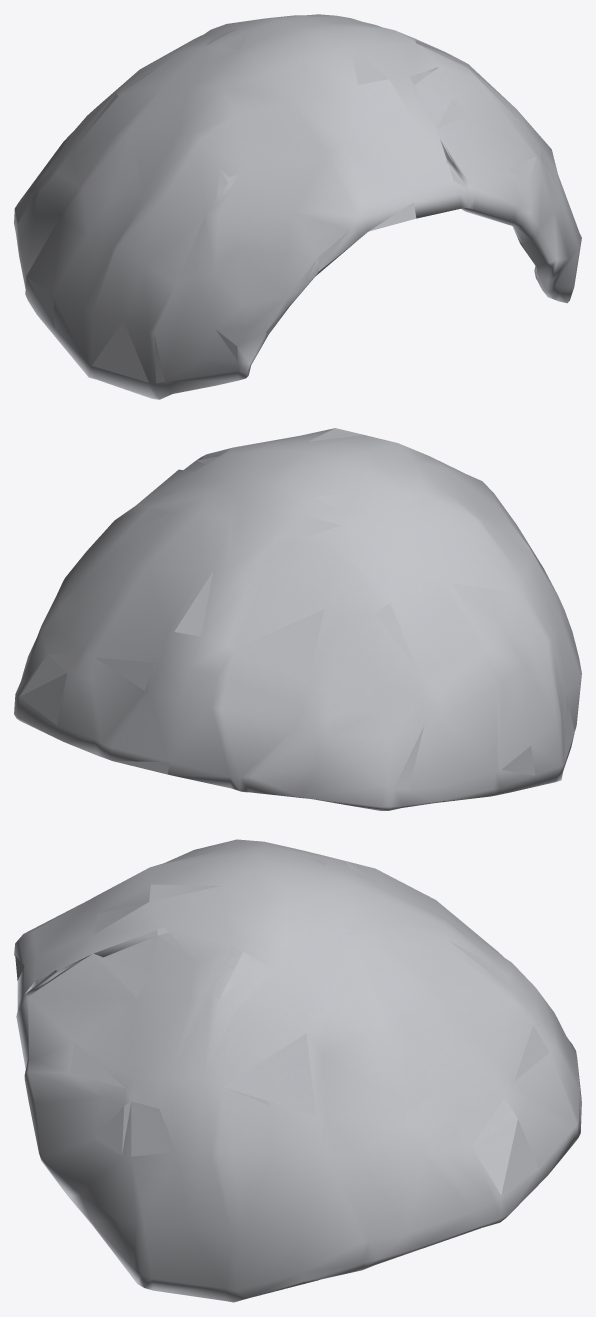
File: Meshy_AI_Frostbite_Crescent_0814022308_texture.fbx
The picture shows the model from 3 angles, top to bottom: view 1: azimuth 30°, elevation 25°; view 2: azimuth 150°, elevation 25°; view 3: azimuth 270°, elevation 25°; orthographic projection. The views are drawn at different scales.
Visible parts, largest first — view 1: mesh_node; view 2: mesh_node; view 3: mesh_node.
Part boxes in pixels (x1,y1,x2,y2): mesh_node: (14, 14, 581, 399); mesh_node: (14, 428, 581, 810); mesh_node: (14, 839, 581, 1302).
Size of the model in its own units: 100 by 56.25 by 93.55.
1 material, 1 textured.
